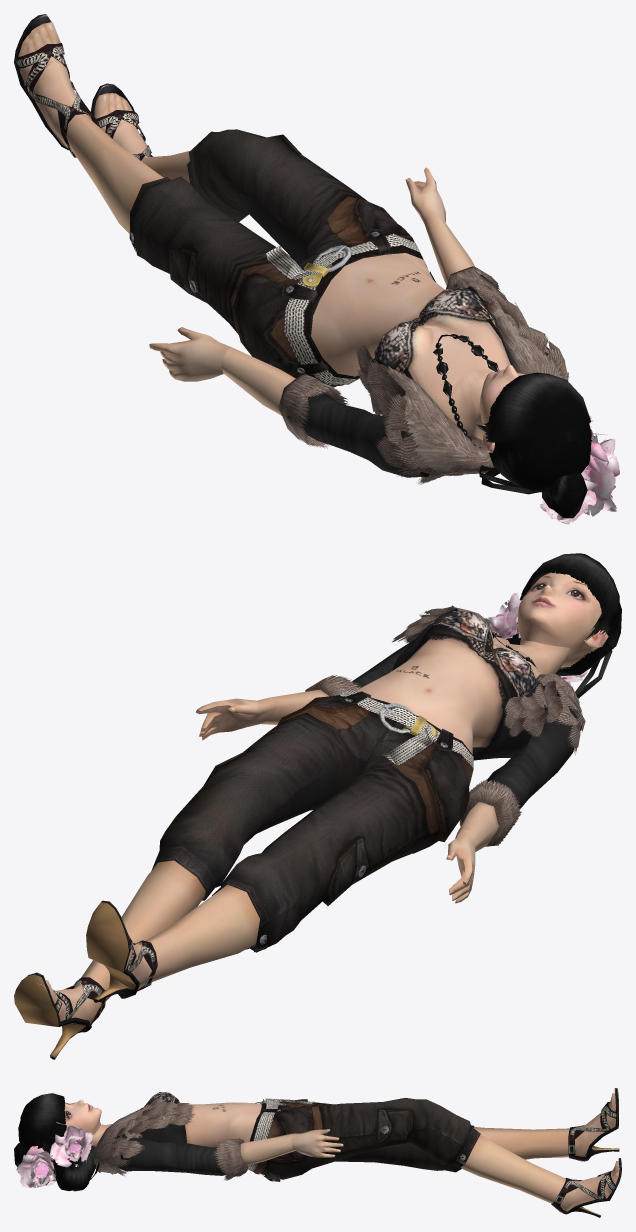
File: BeautifulGirl.obj
The picture shows the model from 3 angles, top to bottom: view 1: azimuth 30°, elevation 25°; view 2: azimuth 150°, elevation 25°; view 3: azimuth 270°, elevation 25°; orthographic projection. The views are drawn at different scales.
Parts seen in each view (by area): view 1: legs, torso, hair, foot, hand01, hand, head; view 2: legs, torso, foot, head, hair, hand, hand01; view 3: legs, torso, hair, foot, hand, head.
Boxes of the visible parts, x1,y1,x2,y2 form: legs: (66,104,435,387); torso: (221,217,568,484); hair: (476,372,619,524); foot: (14,14,152,160); hand01: (149,327,230,381); hand: (405,167,445,223); head: (479,365,524,452); legs: (75,689,473,1008); torso: (261,605,585,851); foot: (14,900,157,1059); head: (516,572,608,667); hair: (485,553,621,698); hand: (196,697,275,740); hand01: (446,829,475,903); legs: (248,1098,569,1203); torso: (90,1092,295,1180); hair: (14,1093,100,1191); foot: (551,1088,621,1217); hand: (290,1129,343,1157); head: (56,1099,101,1134).
Size of the model in its own units: 0.5294 by 0.3544 by 1.72.
6 materials, 6 textured.
